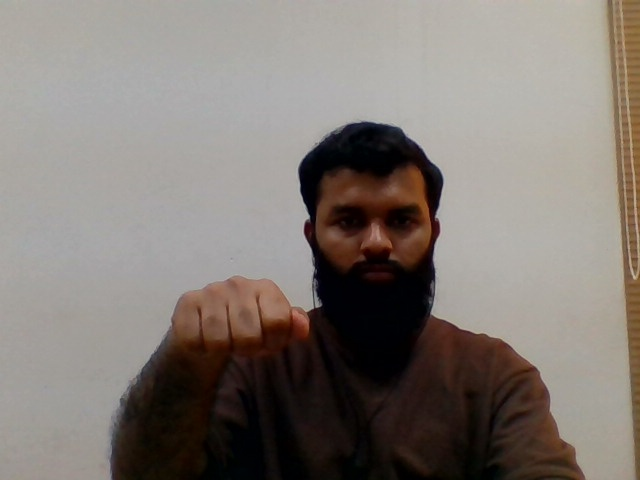Yes: (157, 268, 319, 357)
